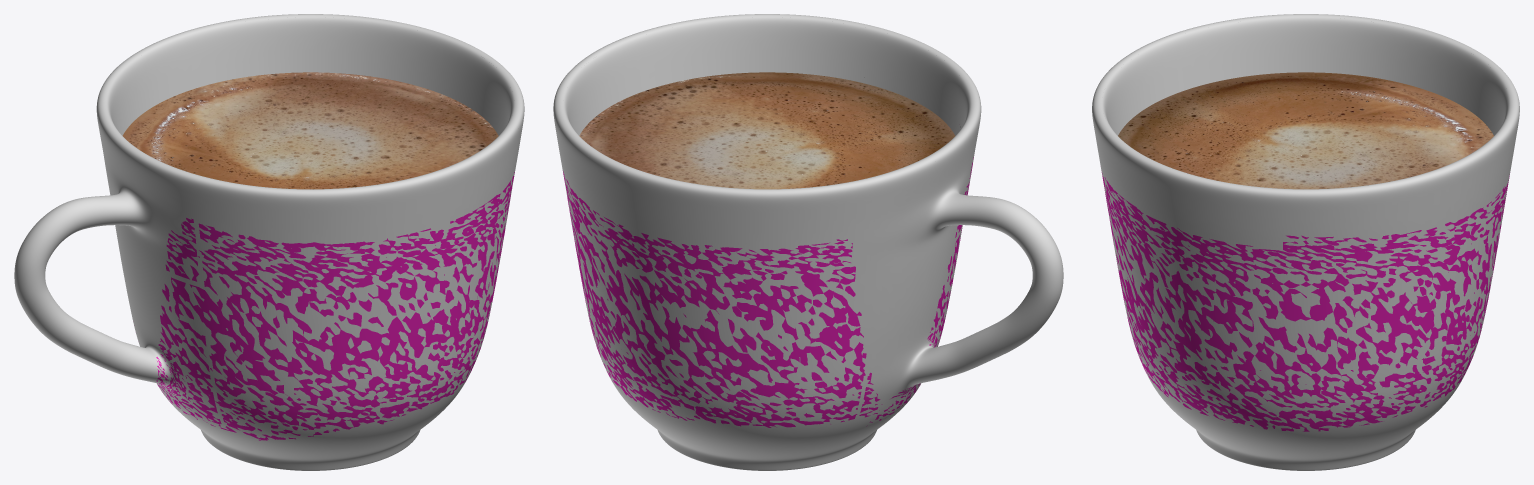
Rendered from cup.glb.
3 views of the same model, side by side, from view 1: azimuth 30°, elevation 25°; view 2: azimuth 150°, elevation 25°; view 3: azimuth 270°, elevation 25° (orthographic).
Parts seen in each view (by area): view 1: Cup, Coffee, Cup_white-ceramic_0.001; view 2: Cup, Coffee, Cup_white-ceramic_0.001; view 3: Cup, Coffee, Cup_white-ceramic_0.001.
Part boxes in pixels (x1,y1,x2,y2): Cup: (14,17,524,470); Coffee: (122,72,498,189); Cup_white-ceramic_0.001: (97,14,524,197); Cup: (553,17,1063,470); Coffee: (579,72,955,189); Cup_white-ceramic_0.001: (553,14,980,416); Cup: (1092,14,1519,470); Coffee: (1118,72,1493,189); Cup_white-ceramic_0.001: (1092,15,1519,197).
Bounding box in the file's own units: 1.15 × 0.738 × 0.8878.
Materials: 3 (1 with a texture image).
